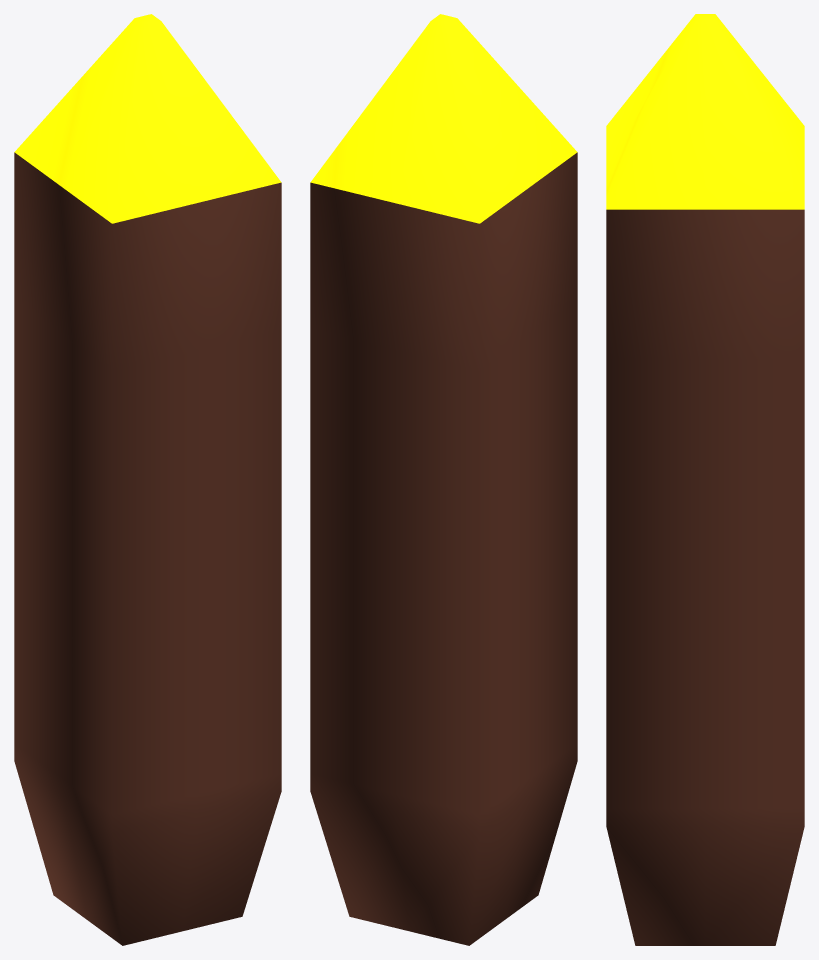
Rendered from Torch.glb.
3 views of the same model, side by side, from view 1: azimuth 30°, elevation 25°; view 2: azimuth 150°, elevation 25°; view 3: azimuth 270°, elevation 25° (orthographic).
Visible parts, largest first — view 1: Torch; view 2: Torch; view 3: Torch.
Part boxes in pixels (box(x1,y1,x2,y2)): Torch: box(14, 14, 281, 945); Torch: box(310, 14, 577, 945); Torch: box(606, 14, 804, 945).
Bounding box in the file's own units: 0.2 × 1 × 0.2.
Materials: 2 (1 with a texture image).
